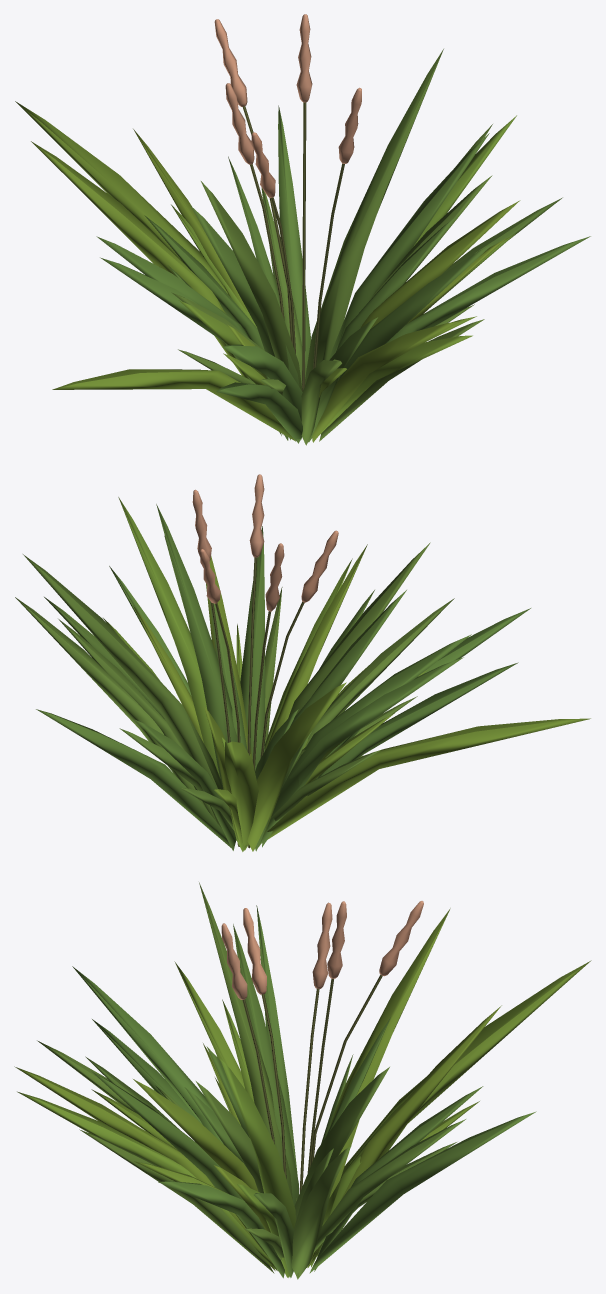
The model's file is bed_grass.glb.
The picture shows the model from 3 angles, top to bottom: view 1: azimuth 30°, elevation 25°; view 2: azimuth 150°, elevation 25°; view 3: azimuth 270°, elevation 25°; orthographic projection. The views are drawn at different scales.
Visible parts, largest first — view 1: Sammel Pflanze, Sammel Putz; view 2: Sammel Pflanze, Sammel Putz; view 3: Sammel Pflanze, Sammel Putz.
Part boxes in pixels (x1=…): Sammel Pflanze: x1=15, y1=14, x2=590, y2=445; Sammel Putz: x1=242, y1=102, x2=344, y2=391; Sammel Pflanze: x1=15, y1=474, x2=590, y2=851; Sammel Putz: x1=210, y1=557, x2=304, y2=848; Sammel Pflanze: x1=14, y1=882, x2=591, y2=1279; Sammel Putz: x1=242, y1=975, x2=382, y2=1192.
Bounding box in the file's own units: 0.8324 × 0.5695 × 0.7791.
